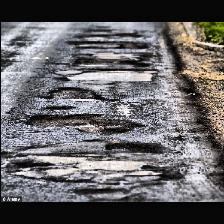pothole: (24, 113, 144, 135), (37, 86, 105, 102), (72, 57, 148, 68), (66, 39, 148, 49), (104, 142, 164, 154), (72, 32, 140, 40), (42, 106, 76, 110)
